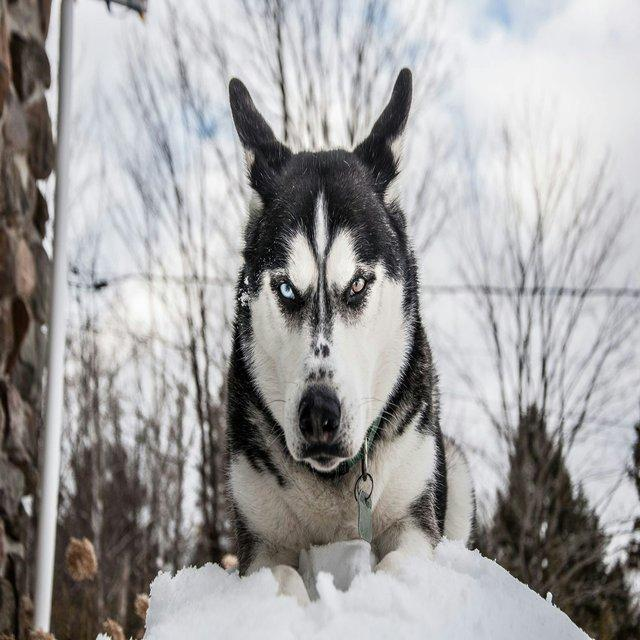husky: (222, 66, 477, 603)
